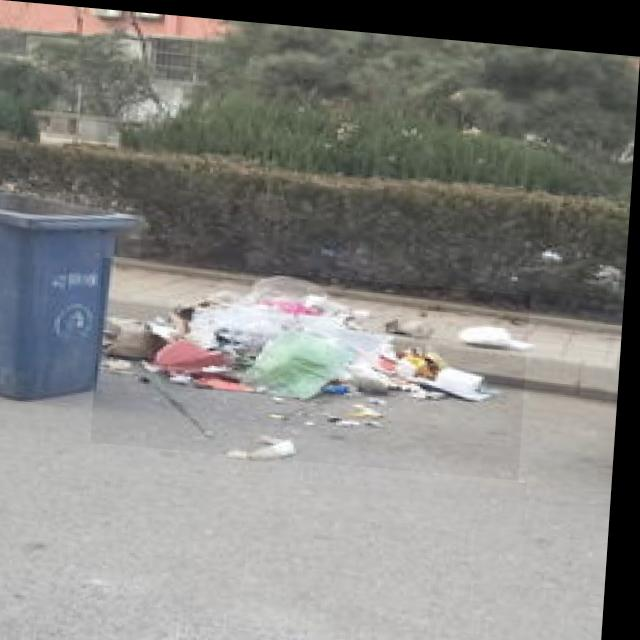garbage: (96, 255, 534, 470)
garbage_bin: (0, 186, 146, 408)
